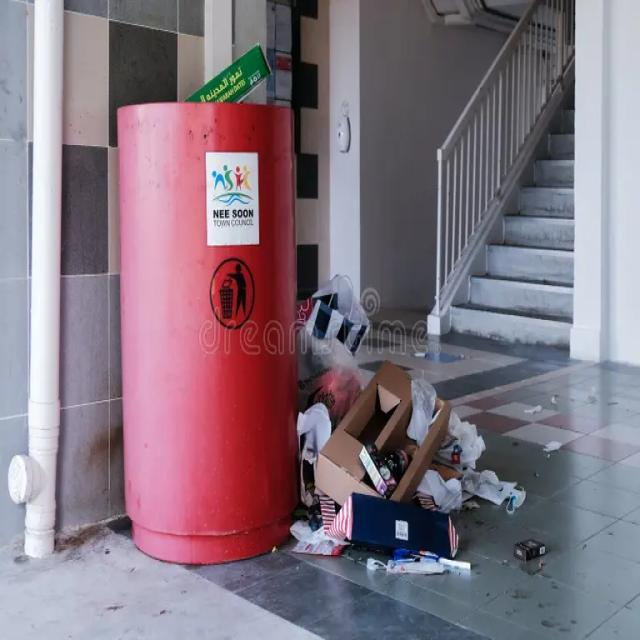bin_full: (120, 39, 286, 544)
bulk_waste: (316, 363, 412, 491)
normal_waste: (417, 378, 517, 514), (348, 490, 460, 568), (184, 44, 280, 112), (297, 280, 361, 372)
